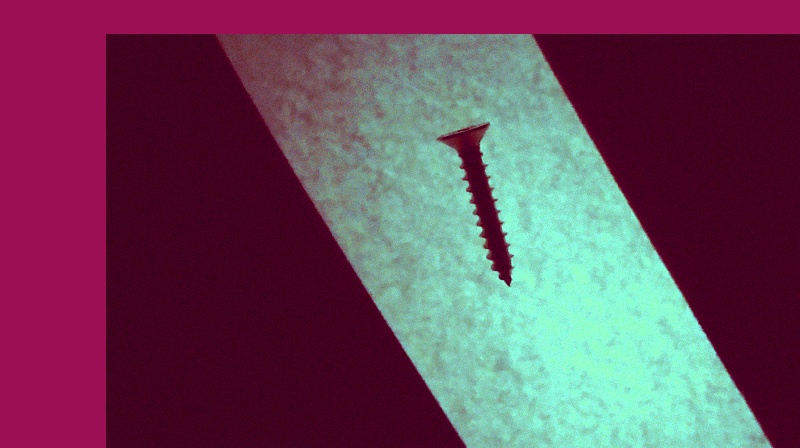S001: (432, 114, 521, 291)
